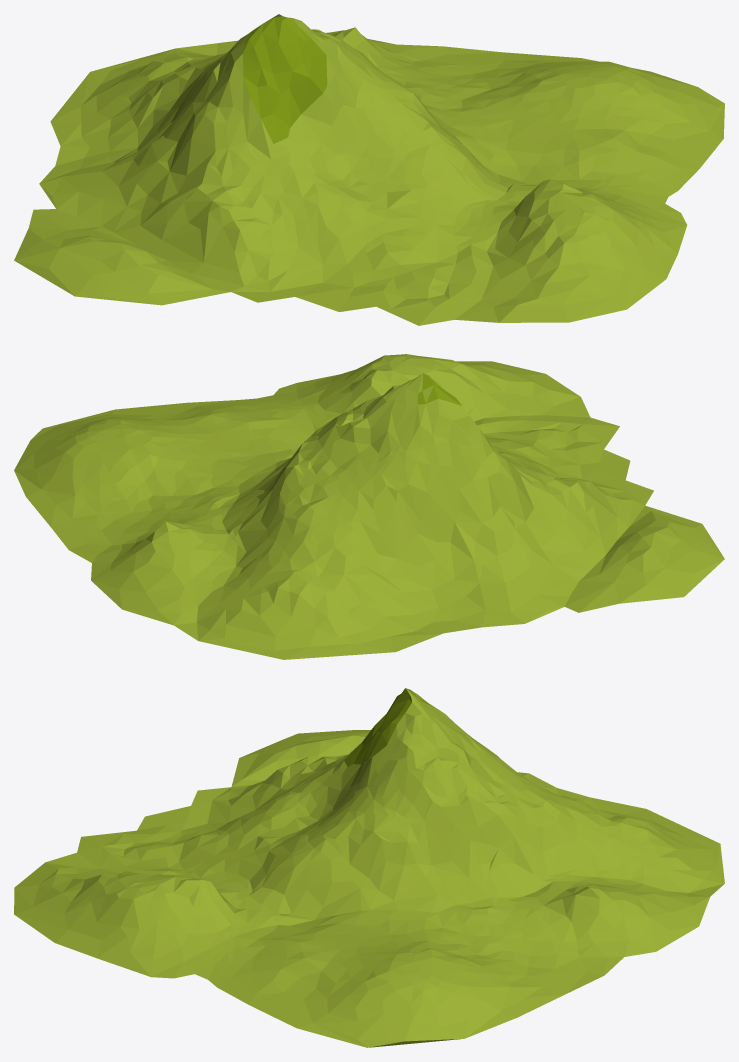
File: mountain.fbx
The picture shows the model from 3 angles, top to bottom: view 1: azimuth 30°, elevation 25°; view 2: azimuth 150°, elevation 25°; view 3: azimuth 270°, elevation 25°; orthographic projection. The views are drawn at different scales.
Visible parts, largest first — view 1: CPT_Mountain_L_e_04_LOD0; view 2: CPT_Mountain_L_e_04_LOD0; view 3: CPT_Mountain_L_e_04_LOD0.
Part boxes in pixels (x1,y1,x2,y2): CPT_Mountain_L_e_04_LOD0: (14, 14, 724, 325); CPT_Mountain_L_e_04_LOD0: (14, 354, 724, 659); CPT_Mountain_L_e_04_LOD0: (14, 688, 724, 1047).
Size of the model in its own units: 11641 by 2856 by 11048.
